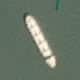ship: (0, 0, 20, 29)
